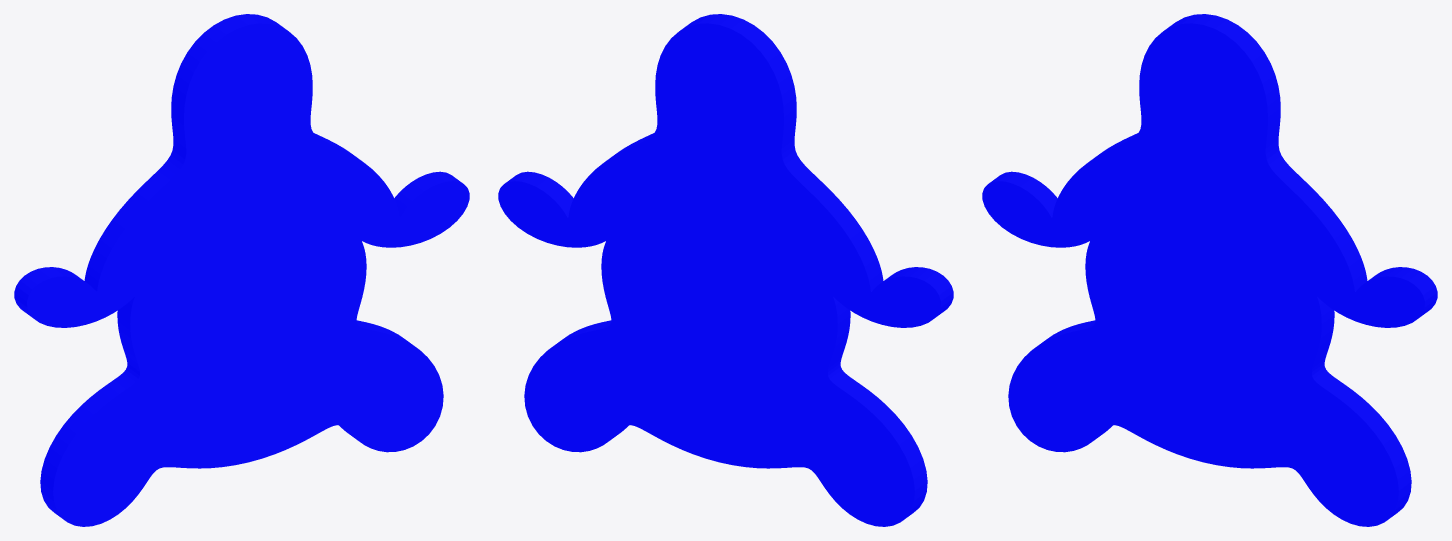
3 views of the same model, side by side, from view 1: azimuth 30°, elevation 25°; view 2: azimuth 150°, elevation 25°; view 3: azimuth 330°, elevation 25° (orthographic).
Bounding box in the file's own units: 1 × 1 × 0.05.
